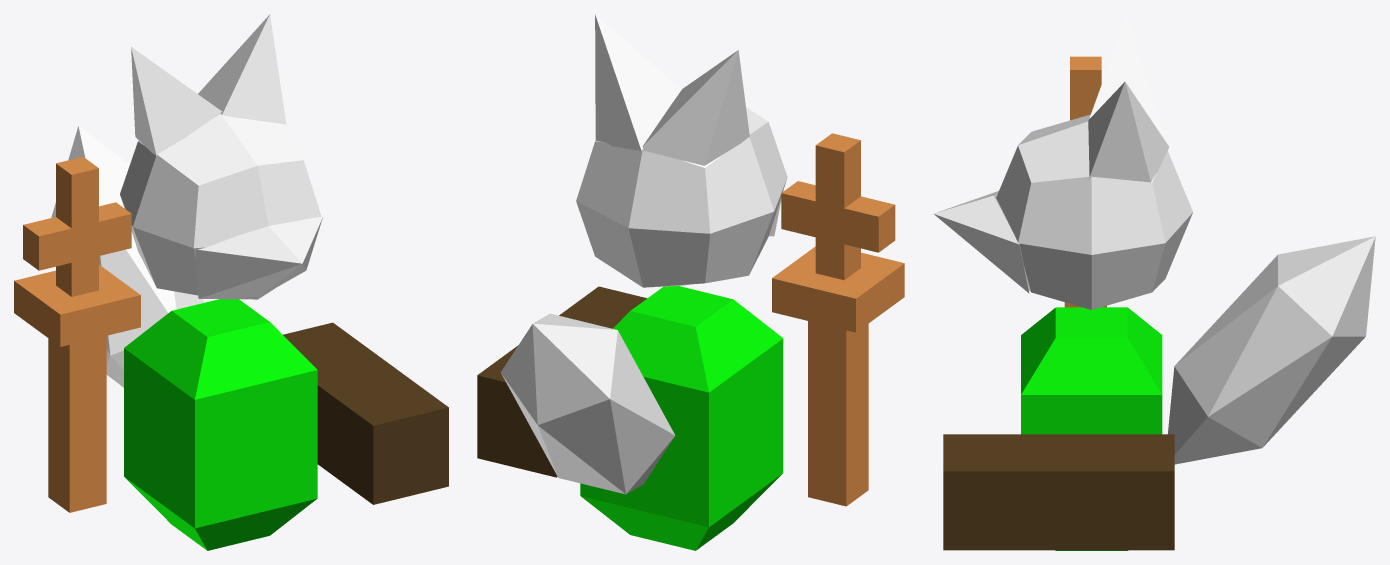
Rendered from Fox_healer.fbx.
3 renders of one model, left to right at view 1: azimuth 30°, elevation 25°; view 2: azimuth 150°, elevation 25°; view 3: azimuth 270°, elevation 25°, orthographic. The views are drawn at different scales.
Parts seen in each view (by area): view 1: Cube, Cube.002, Cube.001, Cube.003, Cone, Icosphere, Cone.001, Cone.002; view 2: Cube, Cube.002, Cube.001, Icosphere, Cone.001, Cone.002, Cube.003; view 3: Icosphere, Cube.003, Cube.001, Cube, Cone.001, Cone, Cone.002, Cube.002.
Boxes of the visible parts, bbox=[...] form: Cube: bbox=[124, 299, 317, 550]; Cube.002: bbox=[14, 157, 140, 512]; Cube.001: bbox=[120, 113, 321, 299]; Cube.003: bbox=[283, 322, 448, 504]; Cone: bbox=[195, 216, 323, 299]; Icosphere: bbox=[51, 126, 203, 387]; Cone.001: bbox=[198, 14, 286, 125]; Cone.002: bbox=[131, 47, 222, 156]; Cube: bbox=[580, 286, 783, 550]; Cube.002: bbox=[772, 133, 904, 506]; Cube.001: bbox=[576, 107, 787, 287]; Icosphere: bbox=[500, 313, 675, 494]; Cone.001: bbox=[595, 14, 681, 150]; Cone.002: bbox=[642, 50, 749, 165]; Cube.003: bbox=[477, 286, 646, 477]; Icosphere: bbox=[1168, 236, 1375, 464]; Cube.003: bbox=[943, 434, 1174, 550]; Cube.001: bbox=[996, 114, 1192, 309]; Cube: bbox=[1021, 307, 1162, 550]; Cone.001: bbox=[1088, 81, 1169, 182]; Cone: bbox=[933, 191, 1029, 293]; Cone.002: bbox=[1089, 14, 1163, 138]; Cube.002: bbox=[1064, 56, 1106, 307].
Bounding box in the file's own units: 564 × 759 × 626.
